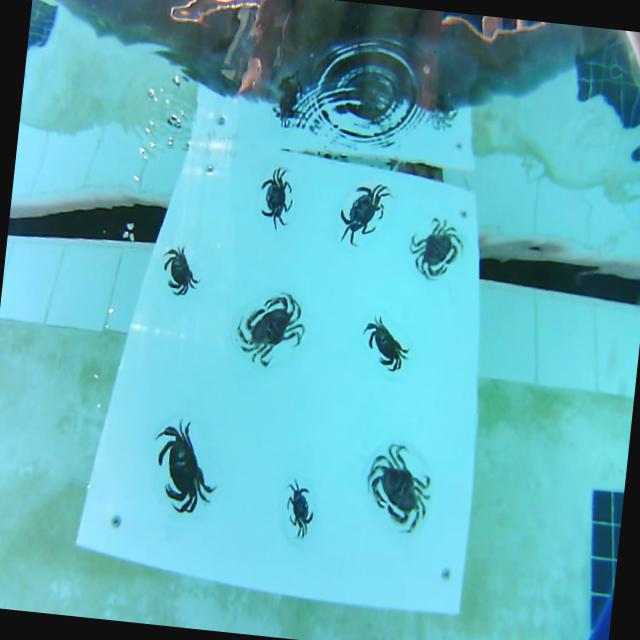green_crab: (340, 184, 390, 245), (261, 167, 292, 230), (286, 478, 313, 537)
jonah_crab: (367, 444, 430, 532), (236, 292, 304, 366), (409, 217, 463, 278)
rock_crab: (156, 419, 215, 513), (363, 317, 408, 371), (163, 246, 198, 295)
